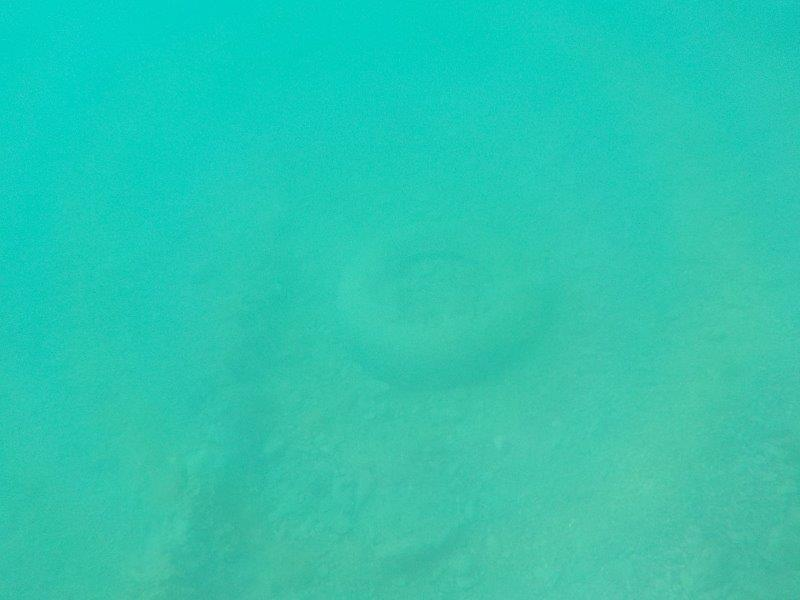tire: (332, 216, 552, 391)
